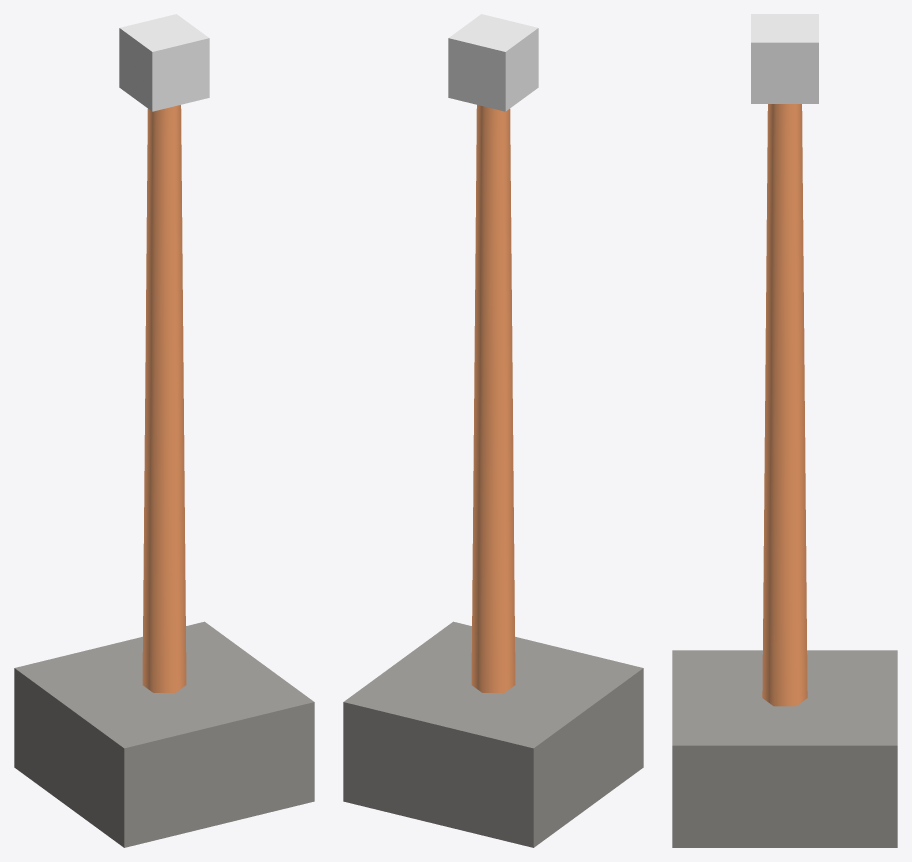
The model's file is build_transmitter.glb.
3 views of the same model, side by side, from view 1: azimuth 30°, elevation 25°; view 2: azimuth 150°, elevation 25°; view 3: azimuth 270°, elevation 25° (orthographic). The views are drawn at different scales.
Parts seen in each view (by area): view 1: Baked, Gem; view 2: Baked, Gem; view 3: Baked, Gem.
Boxes of the visible parts, <box> form: Baked: <box>14,105,314,847</box>; Gem: <box>119,14,209,111</box>; Baked: <box>343,105,643,847</box>; Gem: <box>448,14,538,111</box>; Baked: <box>672,104,897,847</box>; Gem: <box>751,14,818,103</box>.
Size of the model in its own units: 0.4 by 1.51 by 0.4.
